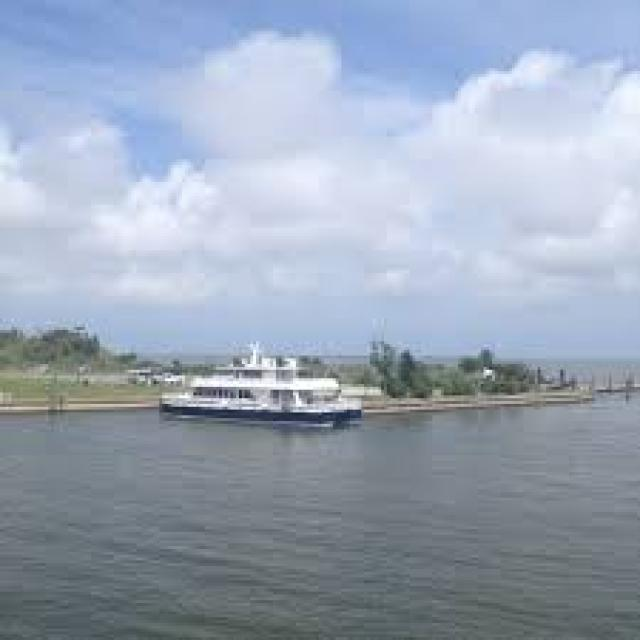passenger ship: (158, 349, 354, 431)
